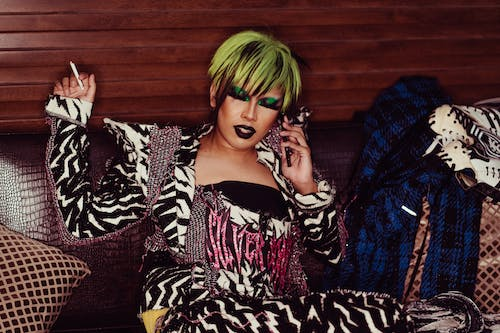cigarette: (68, 60, 85, 91)
